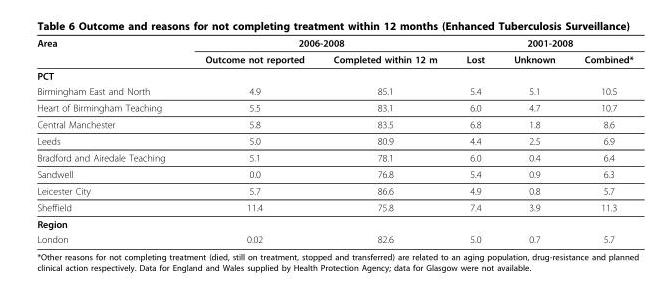table: (36, 36, 632, 244)
table column: (36, 36, 184, 244), (184, 36, 318, 244), (318, 36, 451, 244), (498, 36, 569, 244), (569, 36, 632, 244), (451, 36, 498, 244)
table column header: (36, 36, 632, 67)
table projected row header: (36, 67, 632, 83), (36, 215, 632, 231)
table row: (36, 50, 632, 67), (36, 115, 632, 132), (36, 132, 632, 149), (36, 165, 632, 182), (36, 198, 632, 215), (36, 67, 632, 83), (36, 83, 632, 99), (36, 99, 632, 115), (36, 149, 632, 165), (36, 182, 632, 198), (36, 215, 632, 231), (36, 36, 632, 50), (36, 231, 632, 244)
table spanning cell: (36, 36, 184, 67), (184, 36, 451, 50), (451, 36, 632, 50)
